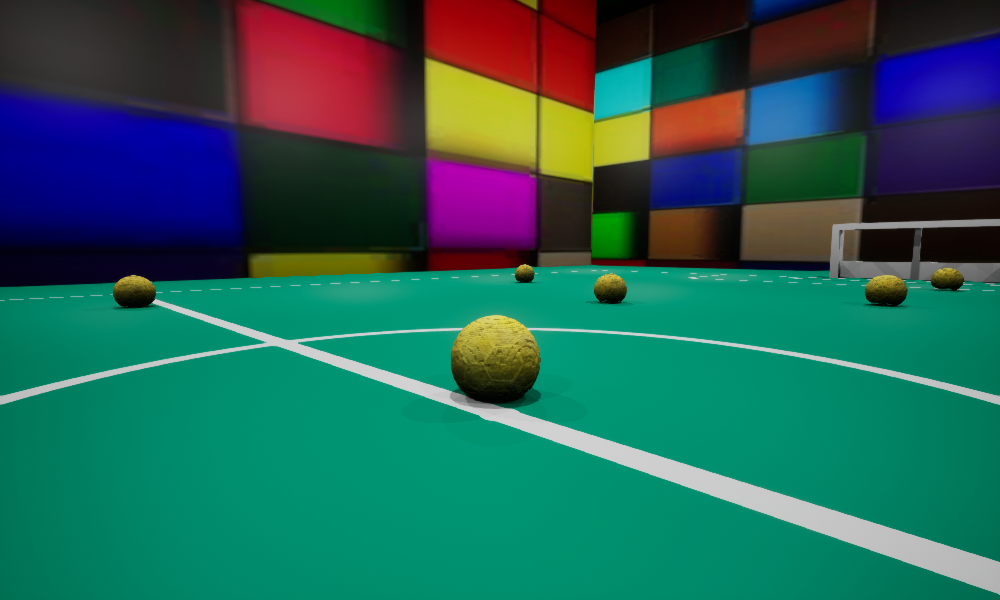b: (451, 315, 540, 401), (113, 275, 155, 307), (865, 275, 907, 305), (594, 273, 626, 302), (931, 268, 963, 290), (515, 264, 534, 282)
g: (829, 219, 999, 281)
